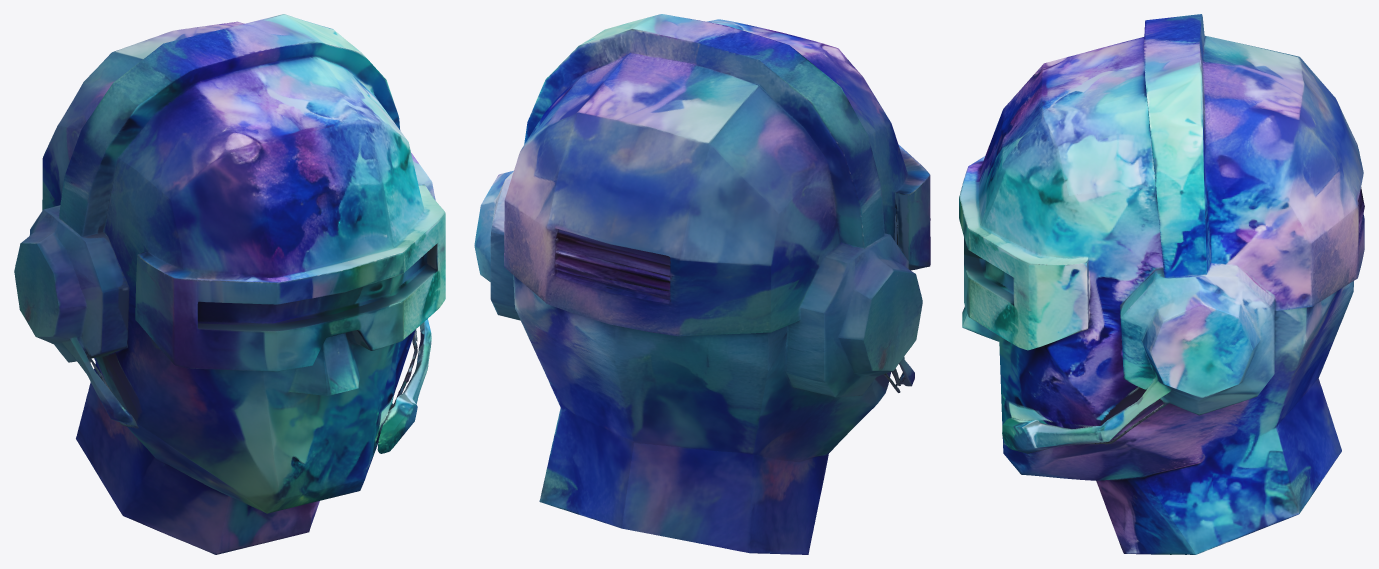
The model's file is base_basic_shaded.glb.
3 views of the same model, side by side, from view 1: azimuth 30°, elevation 25°; view 2: azimuth 150°, elevation 25°; view 3: azimuth 270°, elevation 25° (orthographic). The views are drawn at different scales.
Visible parts, largest first — view 1: model; view 2: model; view 3: model.
Boxes of the visible parts, x1,y1,x2,y2 form: model: [14, 14, 445, 554]; model: [474, 14, 930, 554]; model: [959, 14, 1364, 554].
Bounding box in the file's own units: 1.55 × 1.9 × 1.43.
1 material, 1 textured.
